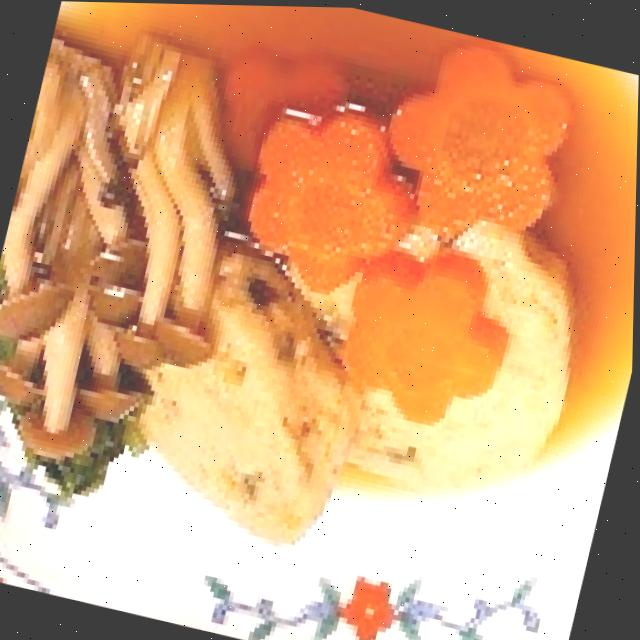熟制海鲜: (35, 158, 631, 633)
